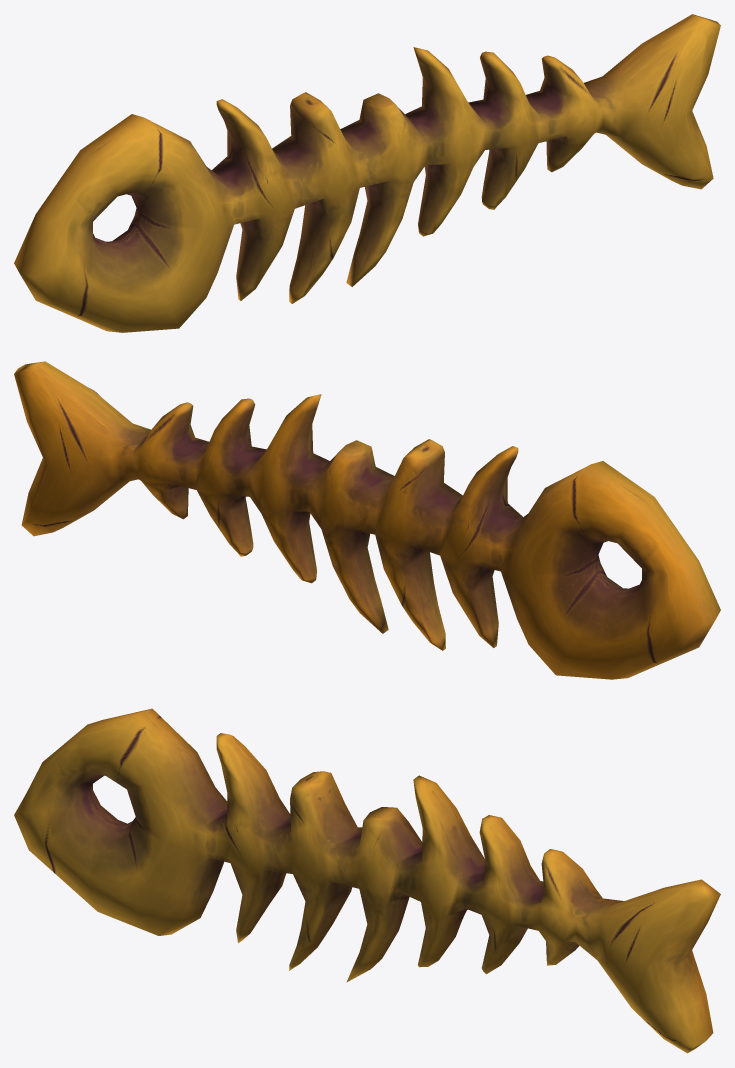
File: rottenfish.gltf
3 views of the same model, one above another, from view 1: azimuth 30°, elevation 25°; view 2: azimuth 150°, elevation 25°; view 3: azimuth 330°, elevation 25° (orthographic).
Visible parts, largest first — view 1: Plane.001; view 2: Plane.001; view 3: Plane.001.
Boxes of the visible parts, x1=… form: Plane.001: x1=14, y1=14, x2=720, y2=332; Plane.001: x1=14, y1=361, x2=720, y2=679; Plane.001: x1=14, y1=708, x2=720, y2=1053.
Bounding box in the file's own units: 3.1 × 0.9484 × 0.3265.
1 material, 1 textured.
